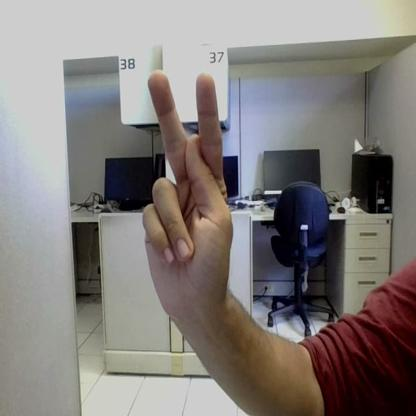K: (143, 70, 232, 306)
